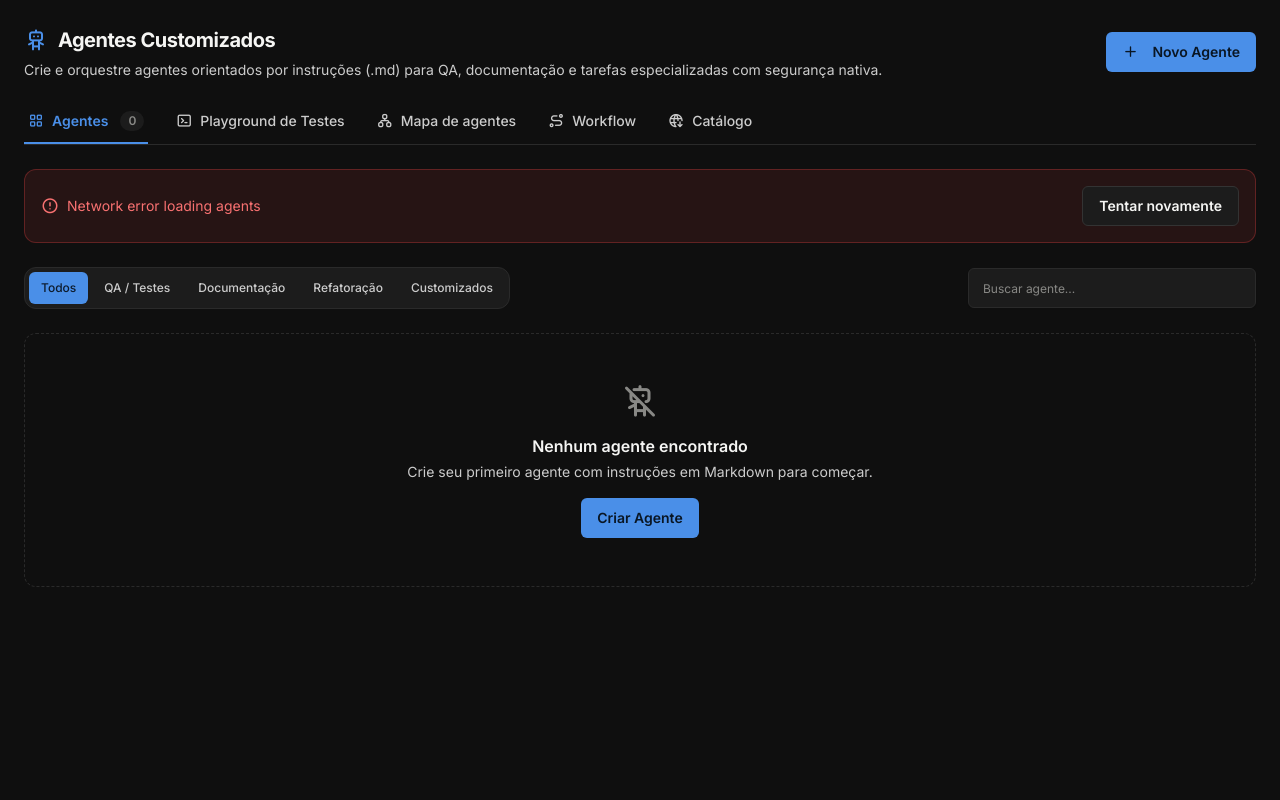
it: AgentsView › handles load error with Error and non-Error and allows retrying
The image size is (1280, 800).
Expected: the text "Network error loading agents" is shown, left=67, top=196, right=261, bottom=216
Step 1. Click the button "Tentar novamente" → [1161, 206], box left=1082, top=186, right=1239, bottom=226
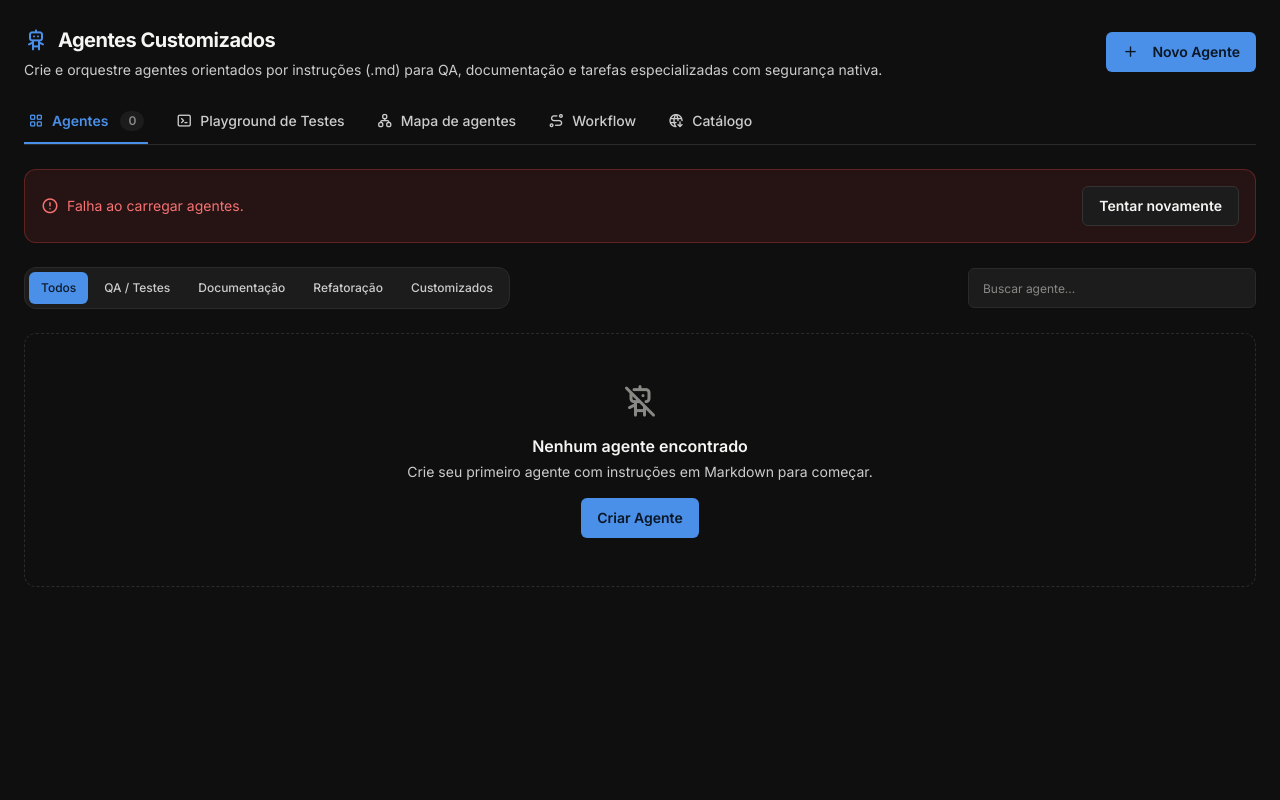
Expected: the text "Falha ao carregar agentes." is shown, left=67, top=196, right=244, bottom=216
Step 2. Click the button "Tentar novamente" → [1161, 206], box left=1082, top=186, right=1239, bottom=226
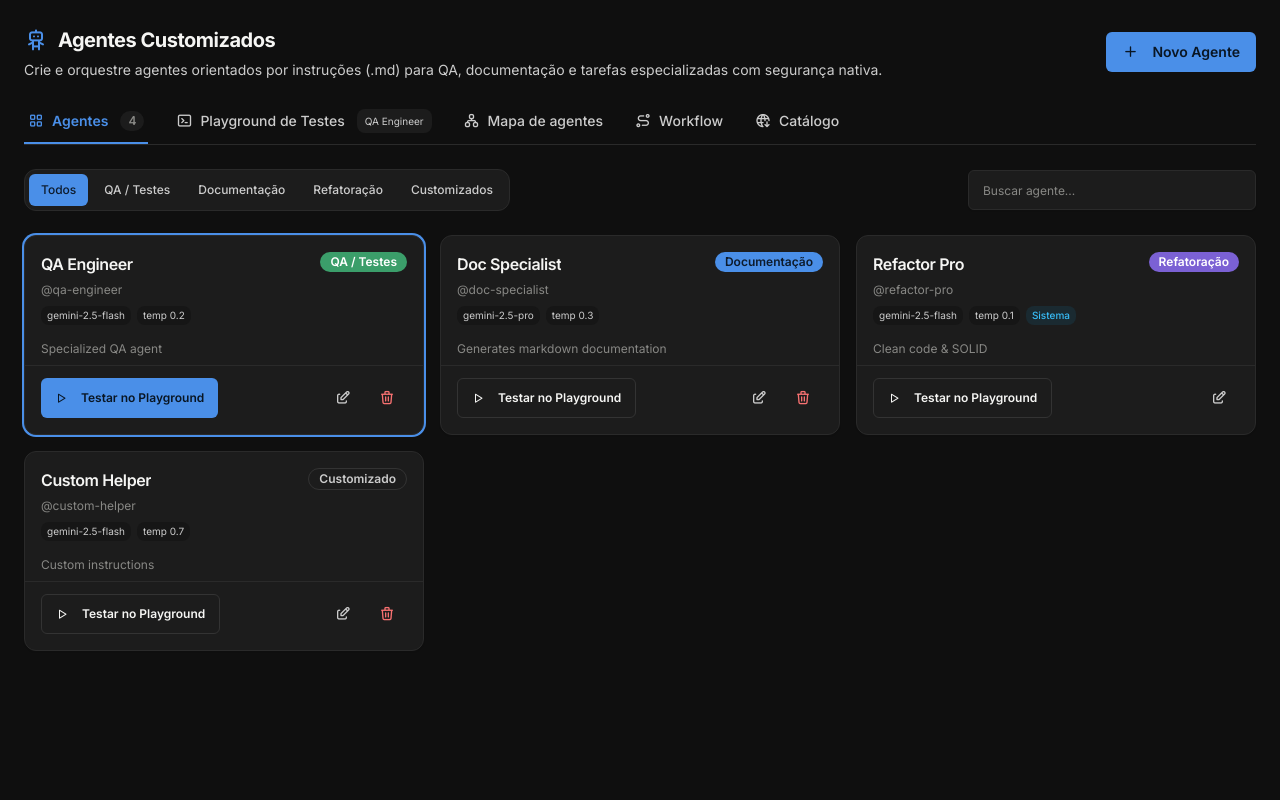
Expected: the element with test id "agent-card-qa-engineer" is shown, left=24, top=235, right=424, bottom=435
